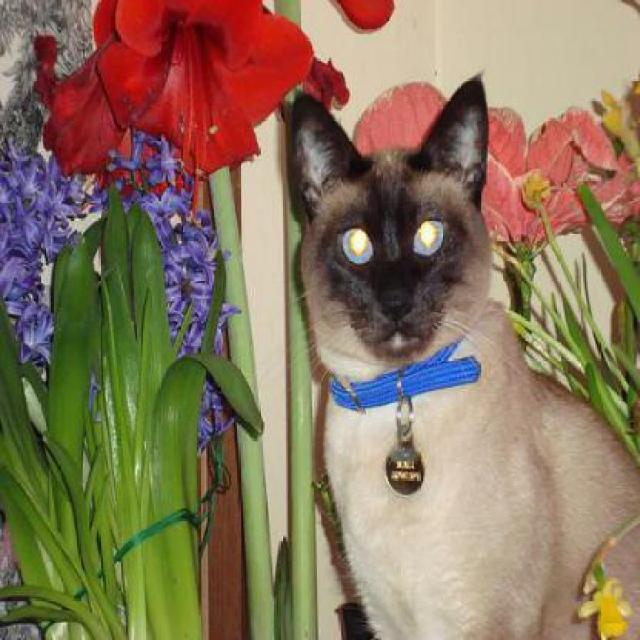cat: (290, 74, 639, 638)
